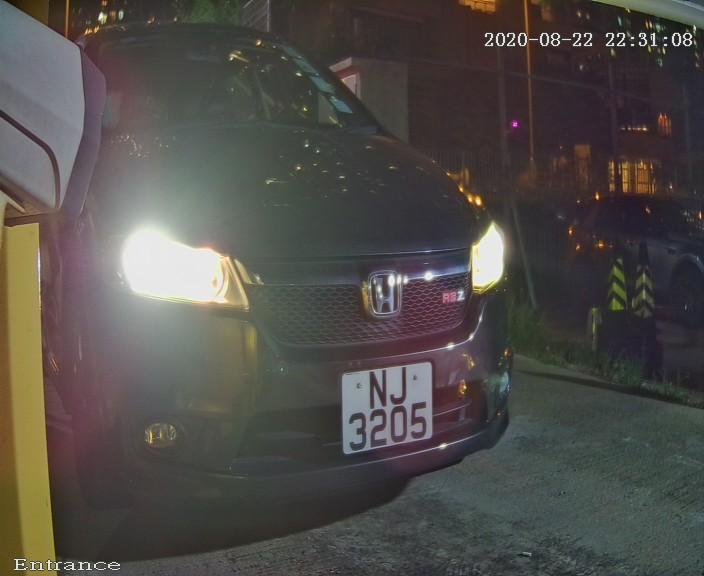Car: (4, 6, 560, 546)
License Plate: (317, 351, 452, 474)
